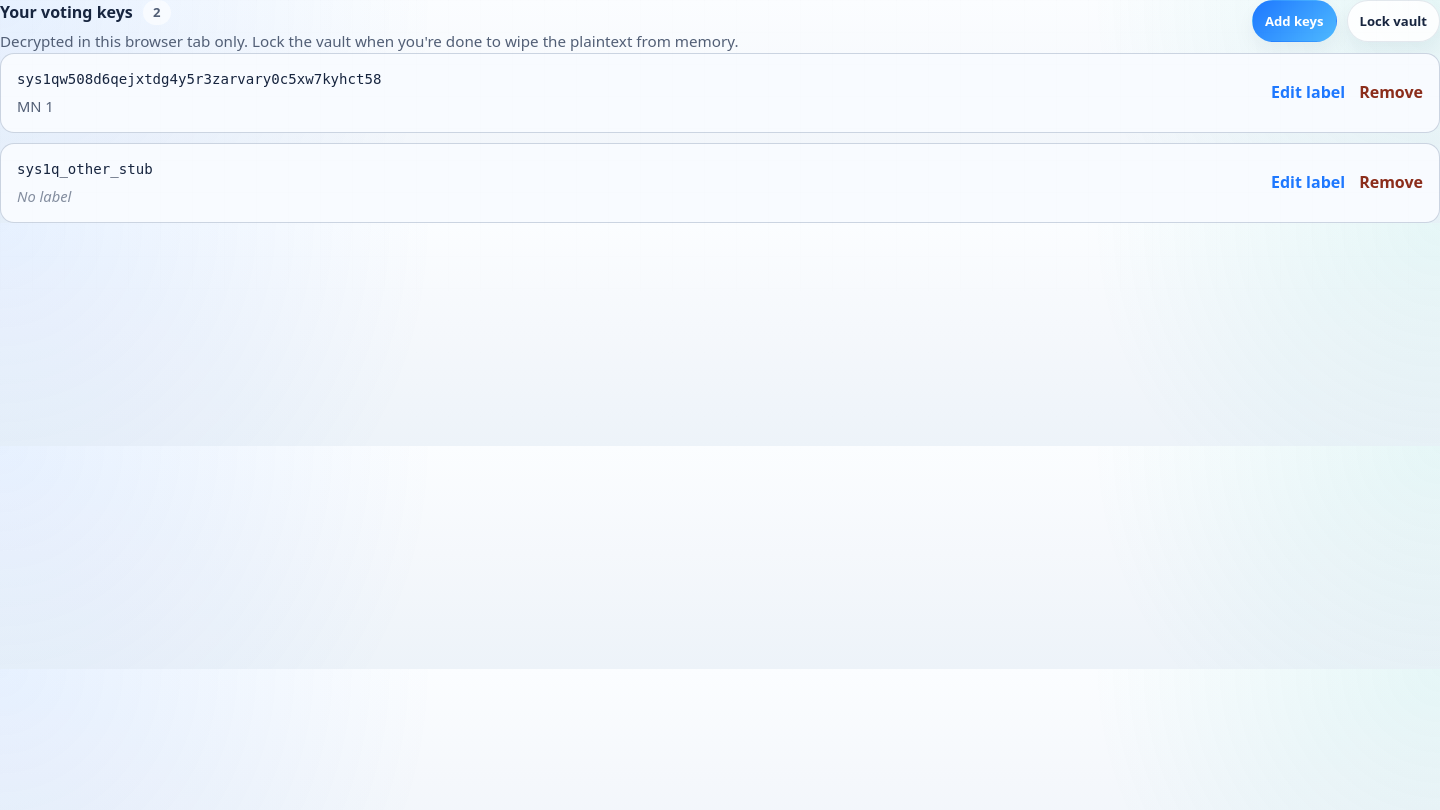
Test: KeyManagerCard — list with keys › edit-label → save persists via vault.save and exits edit mode
// Open editor on the first row
Click the button with test id "key-row-edit" in the row of "MN 1" at (1308, 93), box x1=1271 y1=80 x2=1345 y2=106
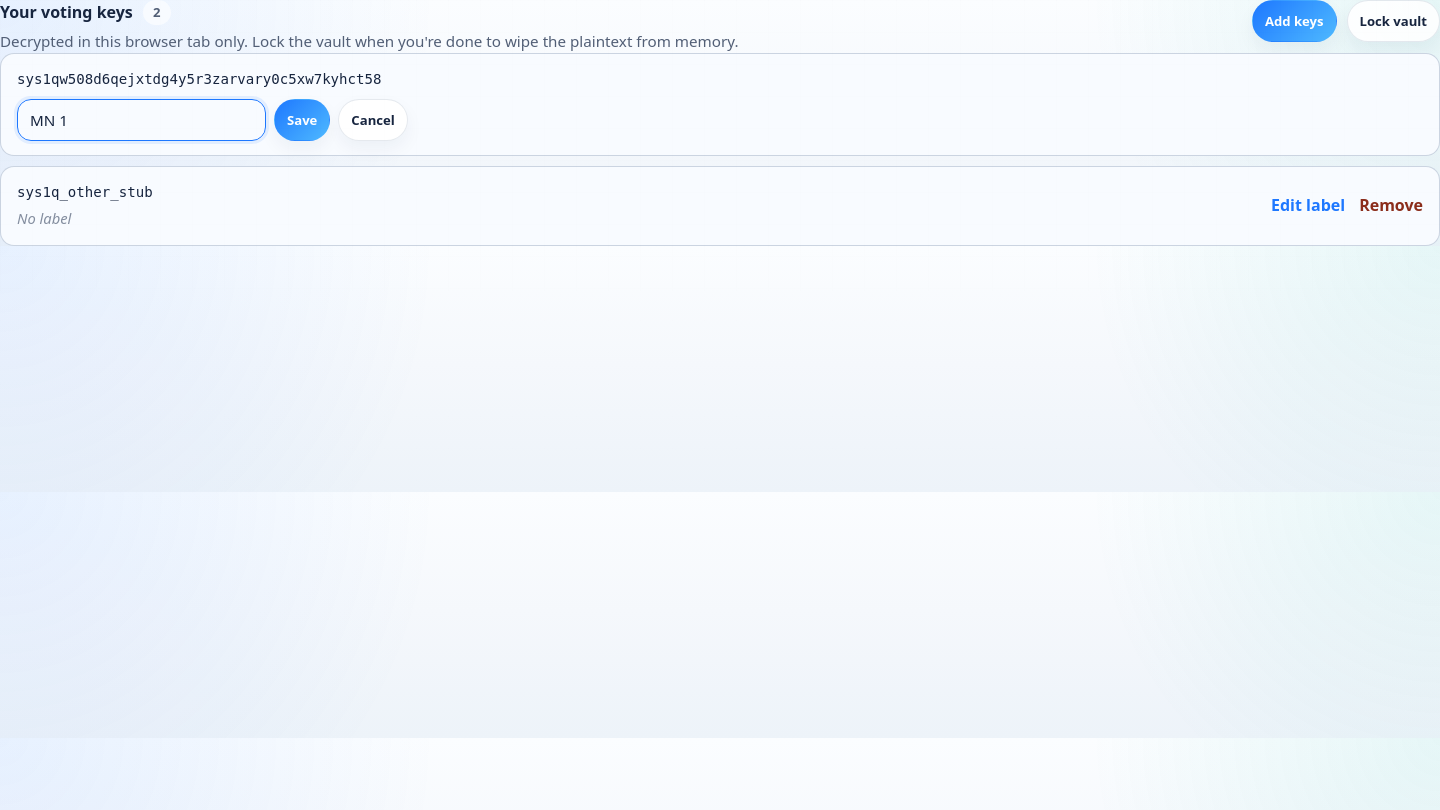
Expected: the field with test id "key-row-edit-input" holds "MN 1"
Replace the text in the field with test id "key-row-edit-input" with "MN Rackspace" at (142, 120), box x1=17 y1=99 x2=266 y2=141
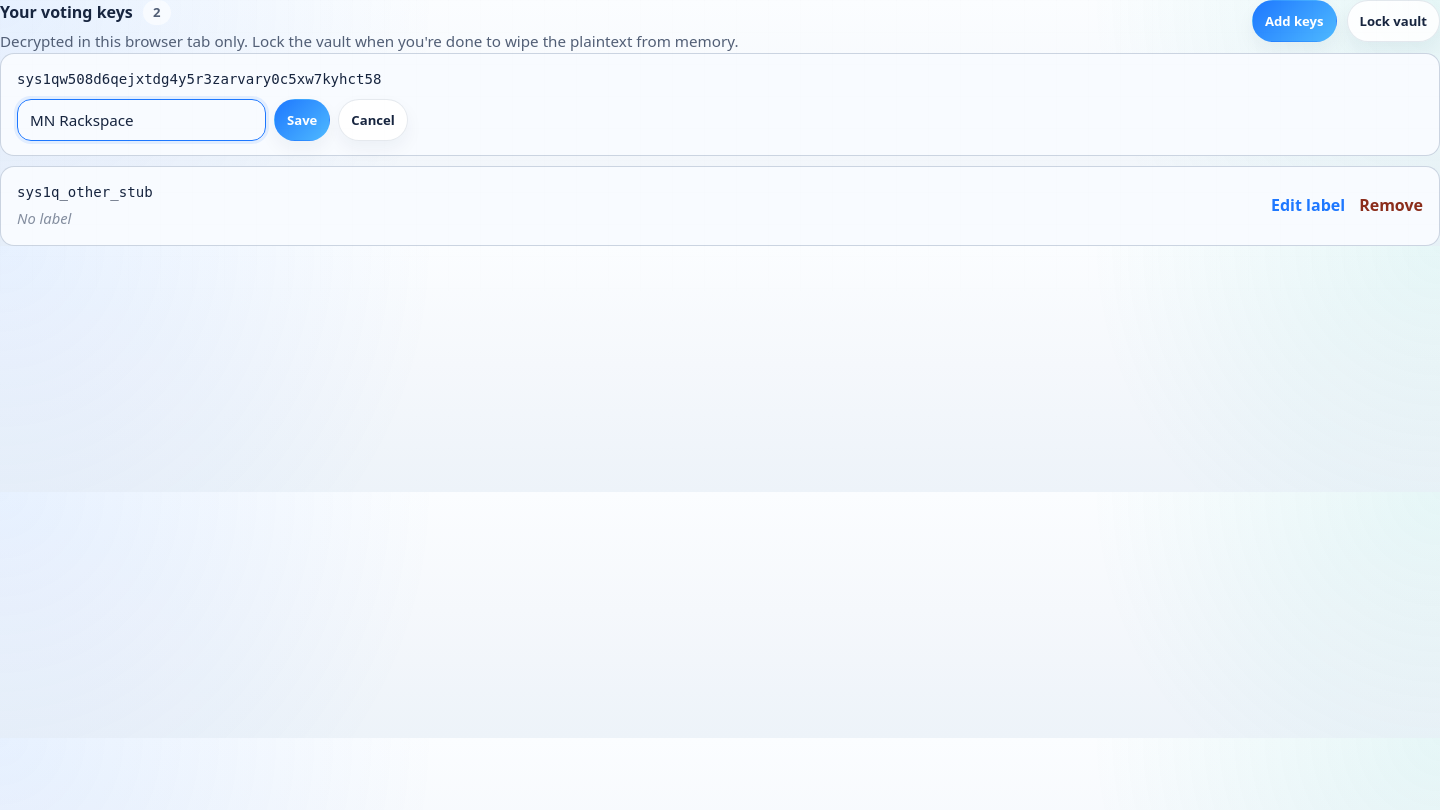
Click the button with test id "key-row-edit-save" at (302, 120), box x1=274 y1=99 x2=330 y2=141
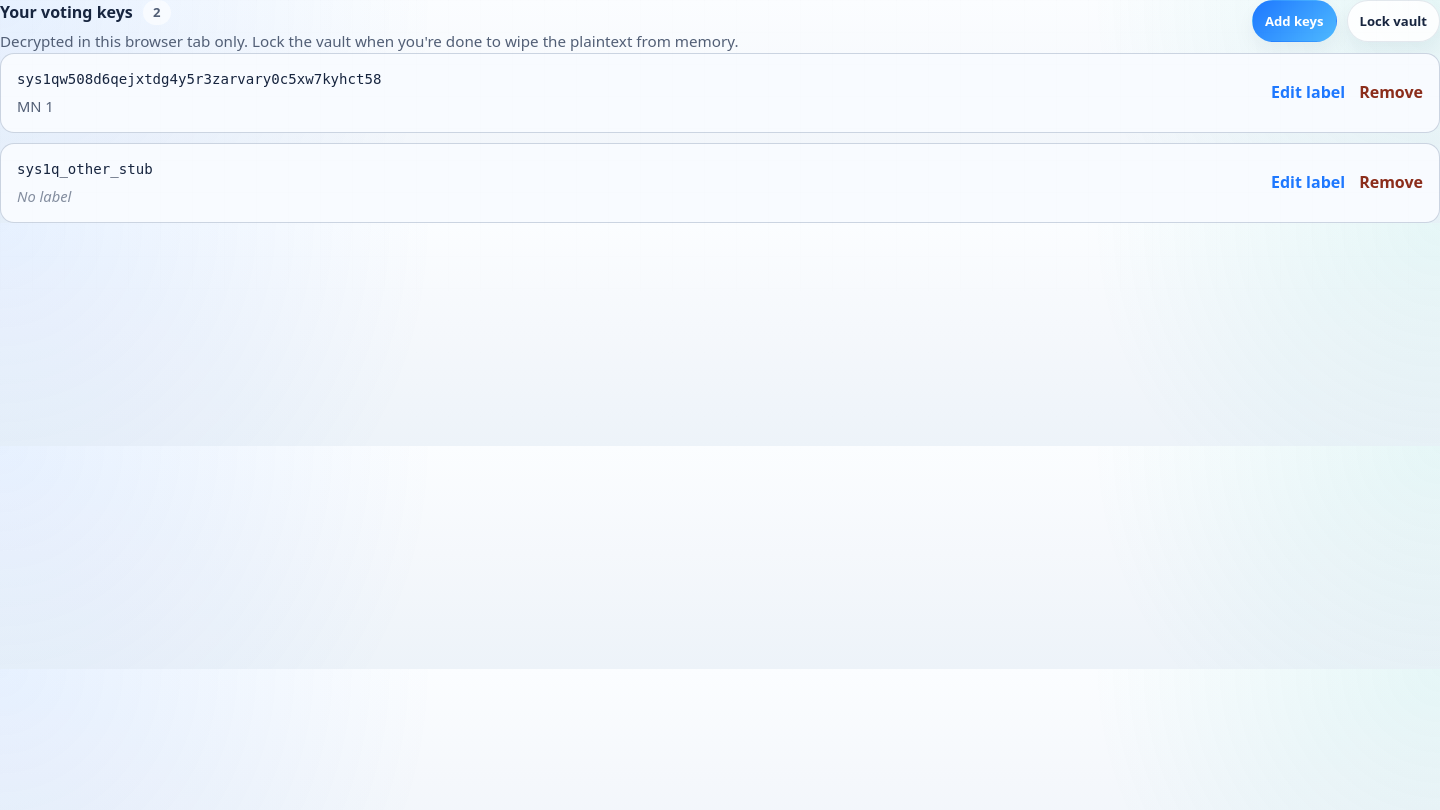
Expected: the field with test id "key-row-edit-input" is gone
